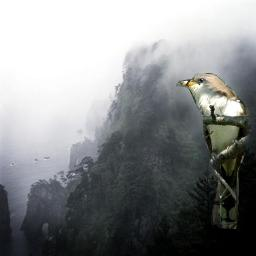Cuckoo: (176, 73, 251, 229)
